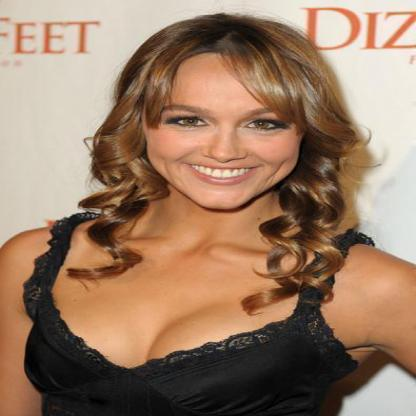long-hair: (55, 208, 363, 256)
